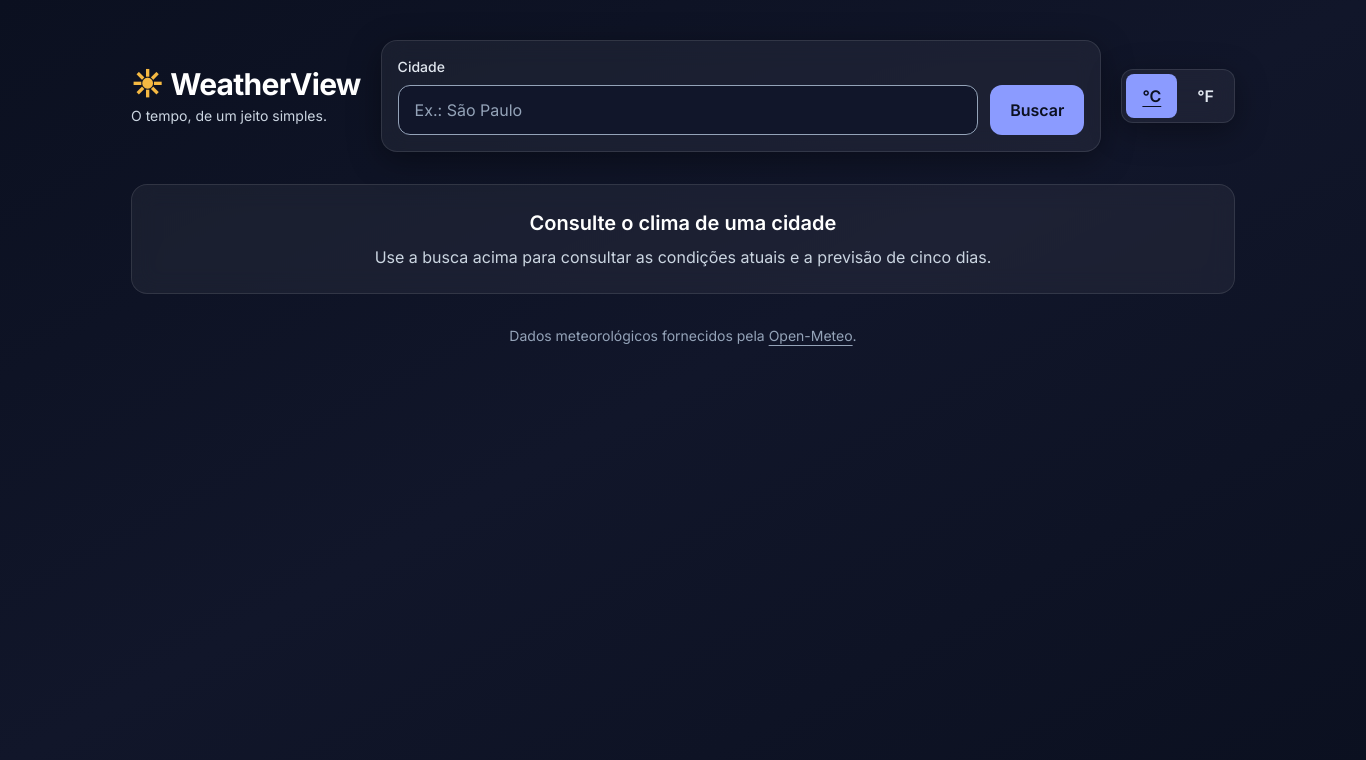
it: App › busca a cidade e renderiza clima atual e cinco dias da resposta
This screenshot has width=1366, height=760.
Type "  Recife  " into the search field labelled "Cidade" at point(688, 110), box [398,85,978,135]
Then press Enter
(page scrolled)
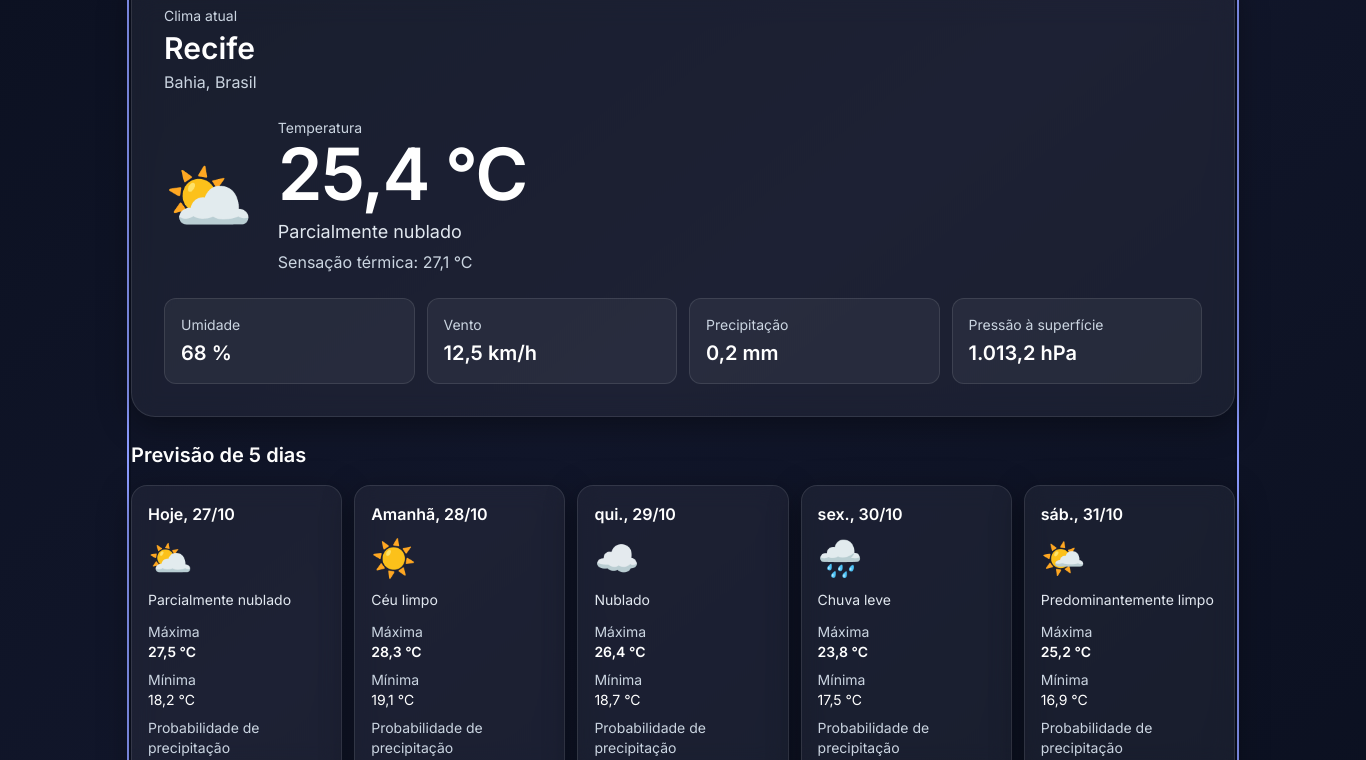
Check: the text "25,4 °C" is shown, box [278,138,526,210]
